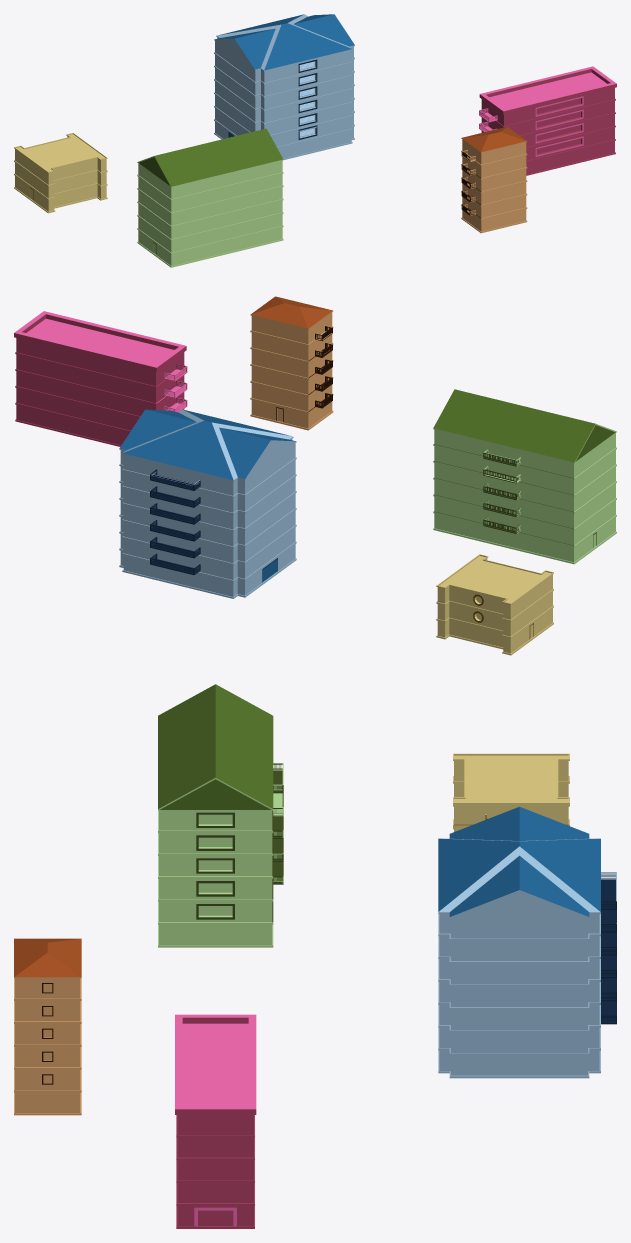
File: buildings.fbx
The picture shows the model from 3 angles, top to bottom: view 1: azimuth 30°, elevation 25°; view 2: azimuth 150°, elevation 25°; view 3: azimuth 270°, elevation 25°; orthographic projection. The views are drawn at different scales.
Visible parts, largest first — view 1: building_006, building_005, building_004, building_003.001, building_007; view 2: building_006, building_005, building_004, building_003.001, building_007; view 3: building_006, building_005, building_004, building_003.001, building_007.
Boxes of the visible parts, <box> form: building_006: <box>214,14,354,159</box>; building_005: <box>137,128,283,267</box>; building_004: <box>479,66,616,175</box>; building_003.001: <box>461,126,527,233</box>; building_007: <box>14,133,107,213</box>; building_006: <box>119,409,296,598</box>; building_005: <box>433,389,616,564</box>; building_004: <box>14,311,187,446</box>; building_003.001: <box>250,296,333,430</box>; building_007: <box>436,554,553,655</box>; building_006: <box>438,806,616,1078</box>; building_005: <box>158,684,283,947</box>; building_004: <box>175,1014,256,1228</box>; building_003.001: <box>14,938,81,1115</box>; building_007: <box>453,753,569,831</box>.
Size of the model in its own units: 8376 by 1855 by 5261.
